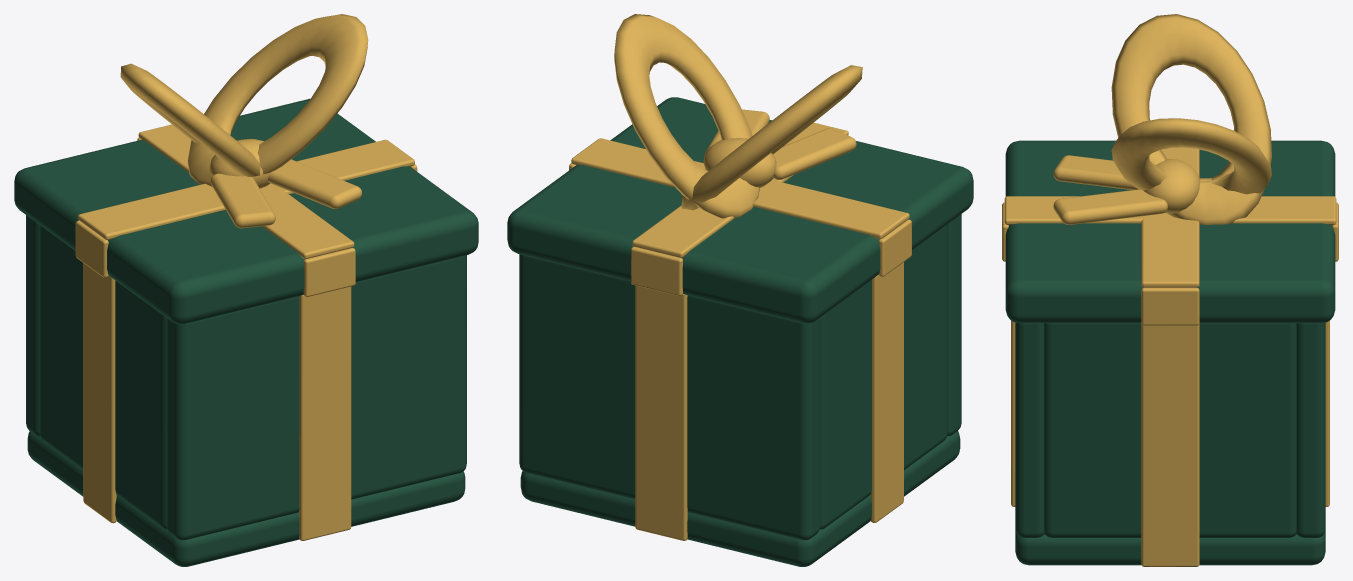
File: gift-classic-3.glb
3 renders of one model, left to right at view 1: azimuth 30°, elevation 25°; view 2: azimuth 150°, elevation 25°; view 3: azimuth 270°, elevation 25°, orthographic.
Parts seen in each view (by area): view 1: Gift_Body, Gift_Lid, Gift_Bow_Loop_R, Gift_Bow, Gift_Bow_Loop_L; view 2: Gift_Body, Gift_Lid, Gift_Bow_Loop_R, Gift_Bow_Loop_L, Gift_Bow; view 3: Gift_Body, Gift_Lid, Gift_Bow_Loop_L, Gift_Bow_Loop_R, Gift_Bow.
Boxes of the visible parts, x1=… form: Gift_Body: x1=26, y1=215, x2=466, y2=566; Gift_Lid: x1=14, y1=98, x2=478, y2=324; Gift_Bow_Loop_R: x1=187, y1=14, x2=368, y2=186; Gift_Bow: x1=209, y1=139, x2=362, y2=228; Gift_Bow_Loop_L: x1=120, y1=63, x2=260, y2=176; Gift_Body: x1=519, y1=214, x2=961, y2=566; Gift_Lid: x1=507, y1=97, x2=973, y2=323; Gift_Bow_Loop_R: x1=614, y1=14, x2=759, y2=218; Gift_Bow_Loop_L: x1=681, y1=65, x2=862, y2=210; Gift_Bow: x1=703, y1=109, x2=856, y2=188; Gift_Body: x1=1011, y1=320, x2=1329, y2=566; Gift_Lid: x1=1002, y1=140, x2=1338, y2=325; Gift_Bow_Loop_L: x1=1111, y1=14, x2=1271, y2=224; Gift_Bow_Loop_R: x1=1111, y1=118, x2=1271, y2=194; Gift_Bow: x1=1053, y1=155, x2=1200, y2=224.
Size of the model in its own units: 0.928 by 1.23 by 0.868.
